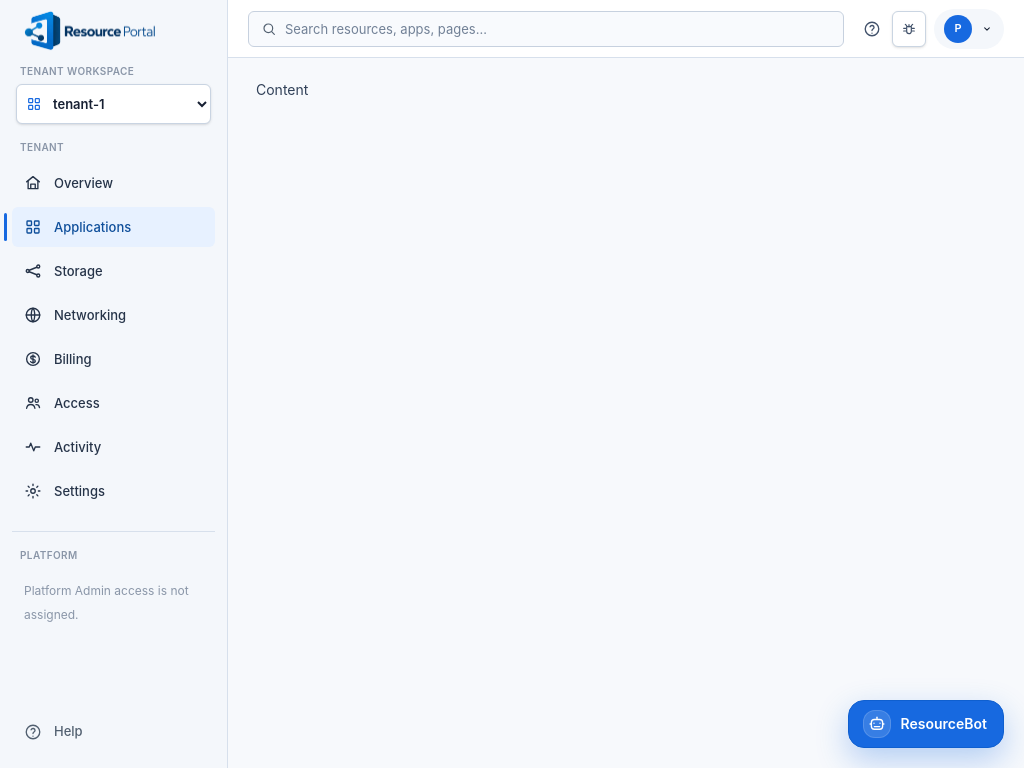
AppShell › retries tenant search after a transient request failure
Type "orders" into the dropdown labelled "Search resources" at coordinates (554, 28), box [277,12,831,46]
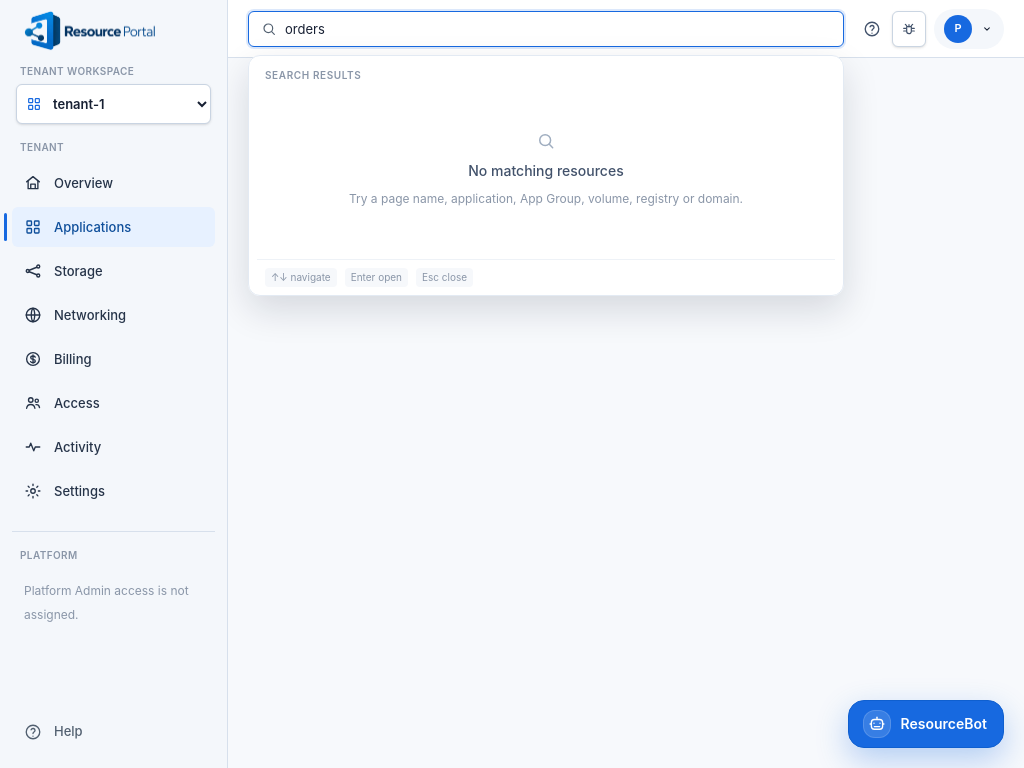
Replace the text in the dropdown named "Search resources" with "orders-data" at coordinates (554, 28), box [277,12,831,46]
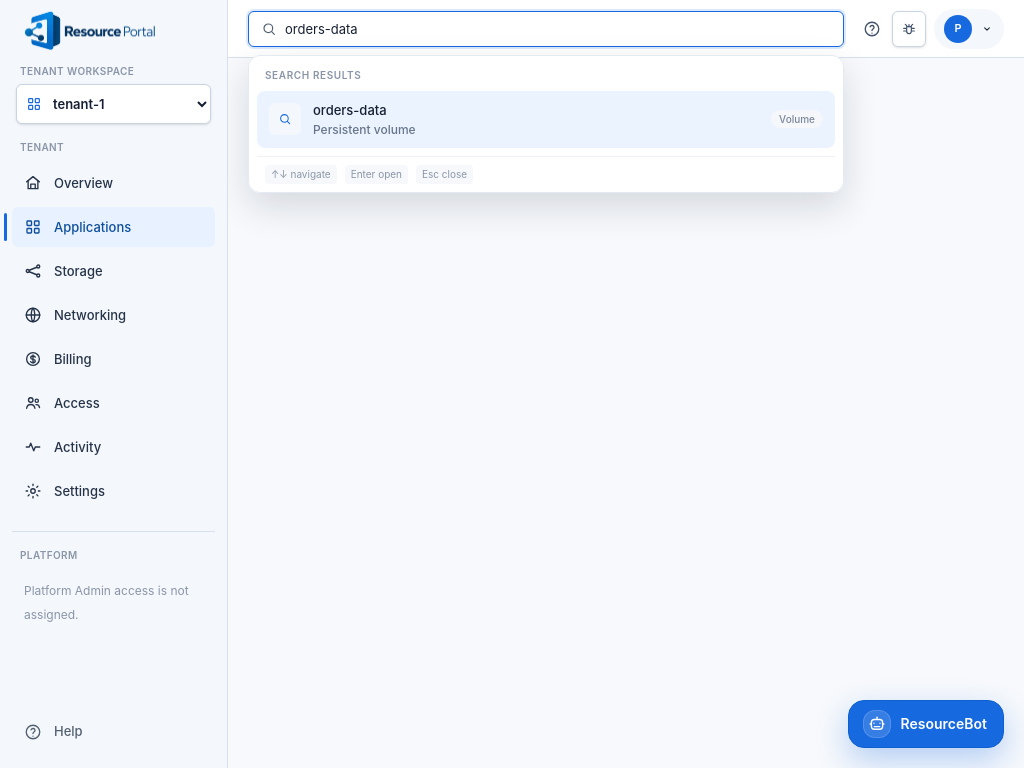
Check: the text "orders-data" is shown, box [313,102,387,118]
